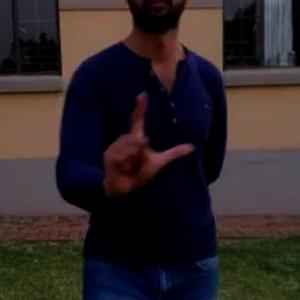land_hand: (99, 84, 195, 188)
